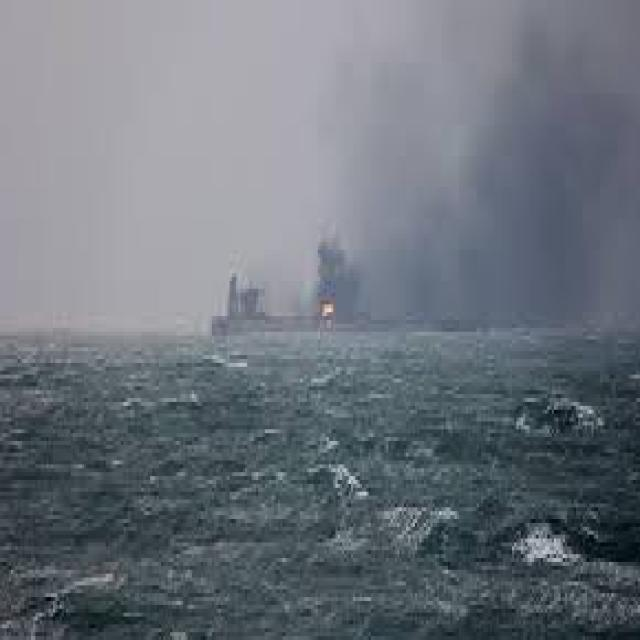cargoship: (218, 252, 430, 340)
